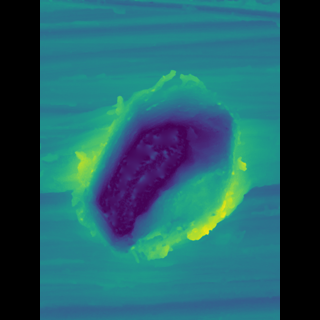Loch: (89, 65, 231, 270)
